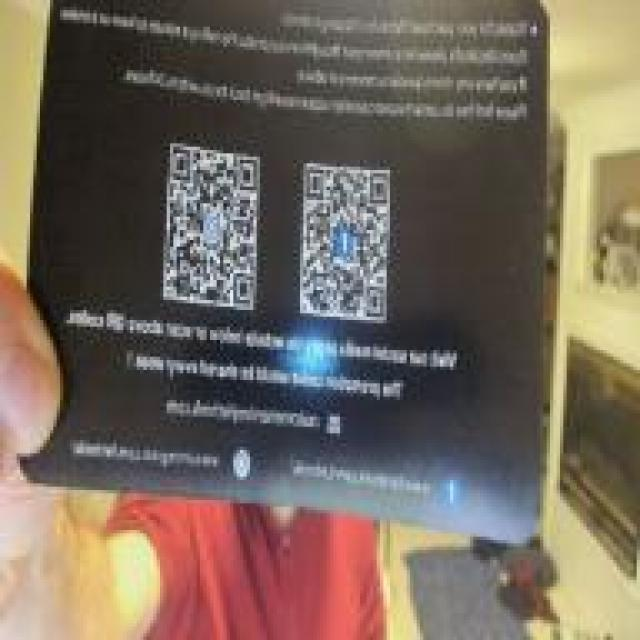qr_code: (166, 148, 259, 305), (304, 169, 388, 318)
